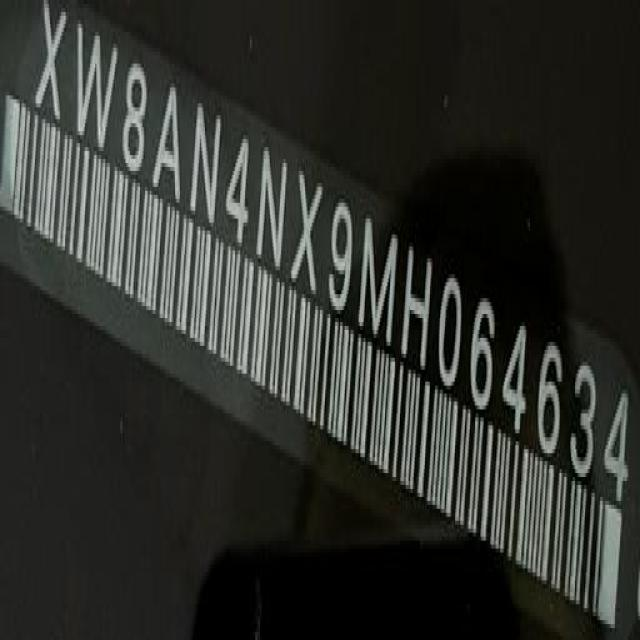0: (436, 266, 464, 396)
3: (569, 352, 598, 484)
4: (602, 375, 634, 500), (501, 316, 531, 447), (225, 120, 252, 247)
6: (465, 292, 496, 420), (537, 338, 567, 466)
8: (123, 48, 149, 185)
9: (326, 193, 357, 322)
A: (153, 78, 183, 200)
H: (400, 241, 436, 371)
M: (361, 211, 403, 353)
N: (188, 92, 226, 229), (255, 137, 290, 271)
W: (78, 19, 120, 162)
X: (35, 3, 67, 125), (294, 168, 324, 297)
